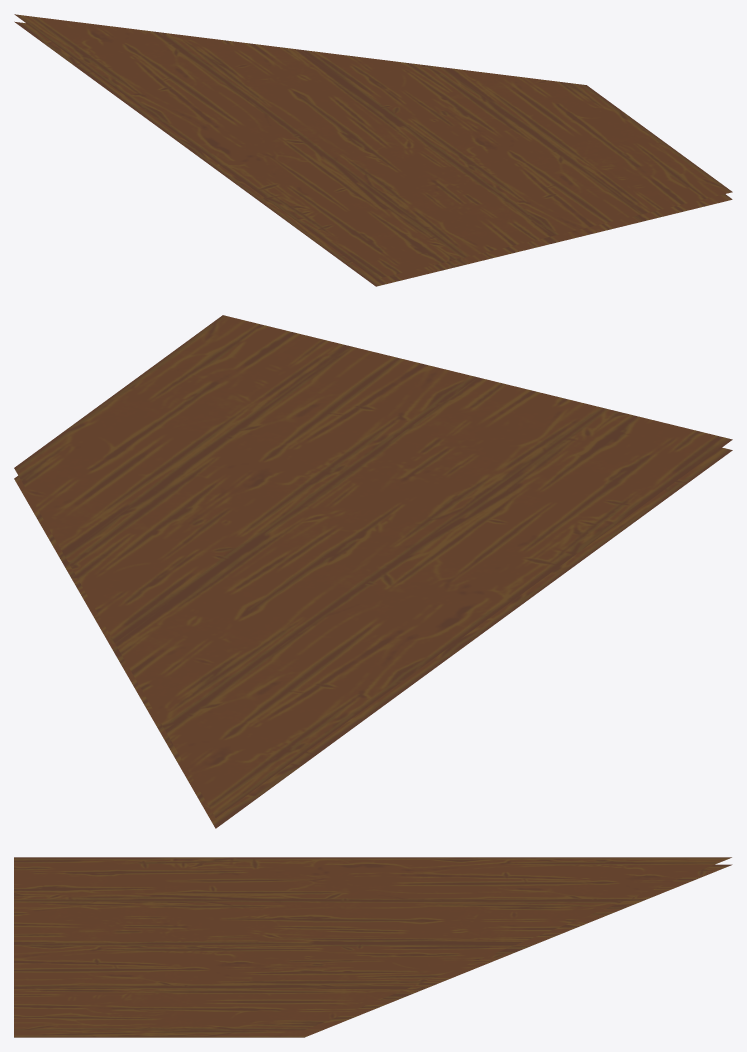
Rendered from Floor_WoodDark_OverhangCorner.gltf.
3 renders of one model, top to bottom at view 1: azimuth 30°, elevation 25°; view 2: azimuth 150°, elevation 25°; view 3: azimuth 270°, elevation 25°, orthographic. The views are drawn at different scales.
Parts seen in each view (by area): view 1: Floor_WoodDark_OverhangCorner; view 2: Floor_WoodDark_OverhangCorner; view 3: Floor_WoodDark_OverhangCorner.
Part boxes in pixels (x1=…): Floor_WoodDark_OverhangCorner: x1=14, y1=14, x2=732, y2=286; Floor_WoodDark_OverhangCorner: x1=14, y1=315, x2=732, y2=828; Floor_WoodDark_OverhangCorner: x1=14, y1=857, x2=732, y2=1037.
Size of the model in its own units: 1 by 0.02 by 1.76.
Materials: 1 (1 with a texture image).
